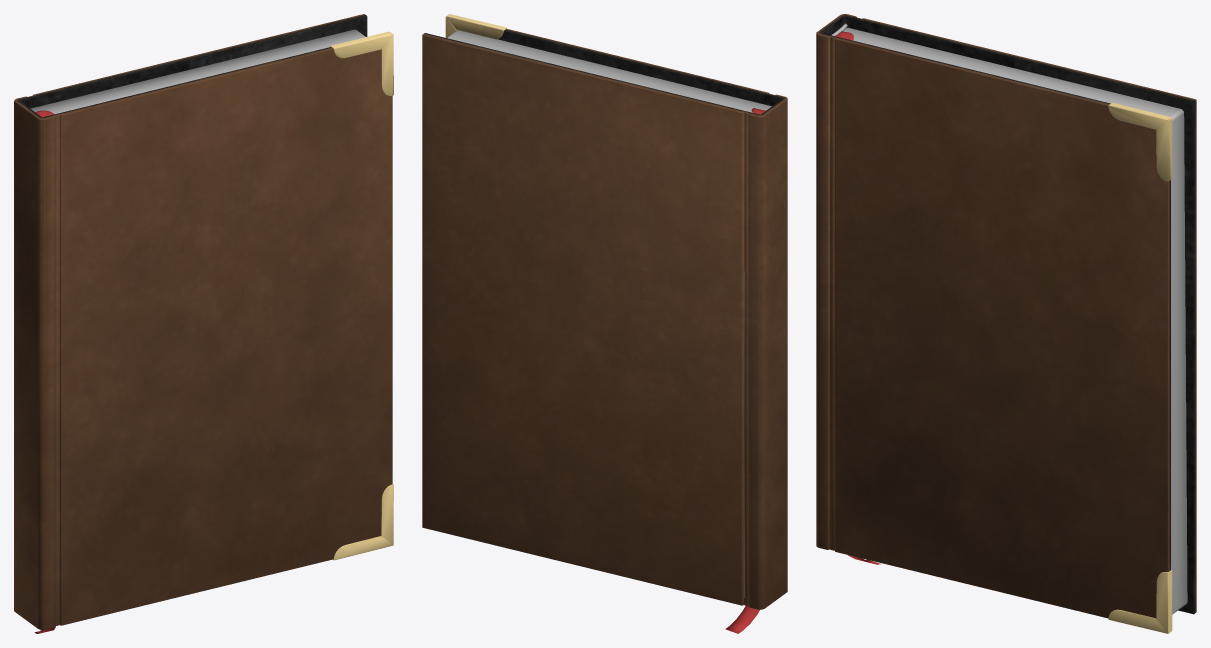
The model's file is tverdiy_pereplet.glb.
3 views of the same model, side by side, from view 1: azimuth 30°, elevation 25°; view 2: azimuth 150°, elevation 25°; view 3: azimuth 330°, elevation 25° (orthographic). The views are drawn at different scales.
Visible parts, largest first — view 1: Cube.003; view 2: Cube.003; view 3: Cube.003.
Part boxes in pixels (x1,y1,x2,y2): Cube.003: [14, 14, 393, 633]; Cube.003: [422, 14, 787, 633]; Cube.003: [816, 14, 1196, 633].
Size of the model in its own units: 1.29 by 1.88 by 0.1903.
Materials: 1 (1 with a texture image).
